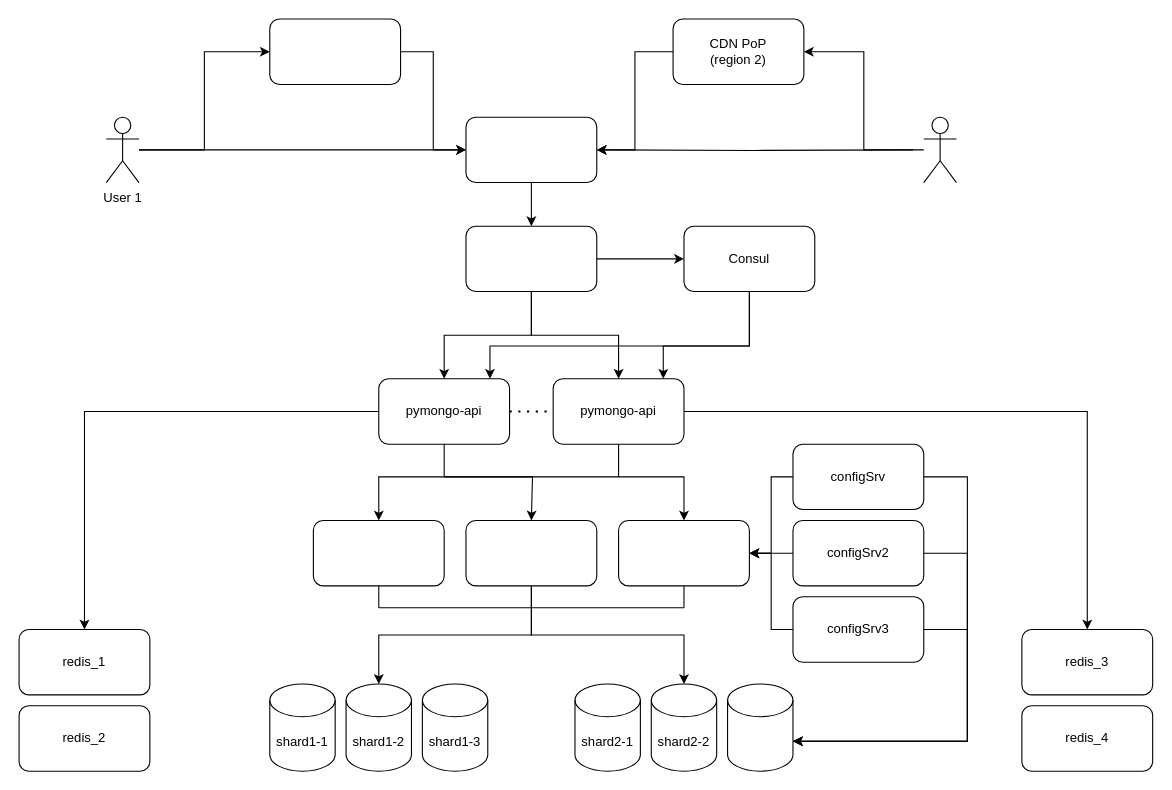
This 1172x790 diagram has some shape labels left out. Here are the shapes that lost their labels. From the top down, the box of each, then its label:
(269, 18, 401, 84): CDN PoP (region 1)
(465, 116, 597, 183): Web-site (origin server)
(923, 116, 956, 183): User 2
(465, 225, 597, 292): API Gateway
(312, 519, 444, 586): mongos_router
(465, 519, 597, 586): mongos_router2
(617, 519, 749, 586): mongos_router3
(726, 683, 793, 771): shard2-3
